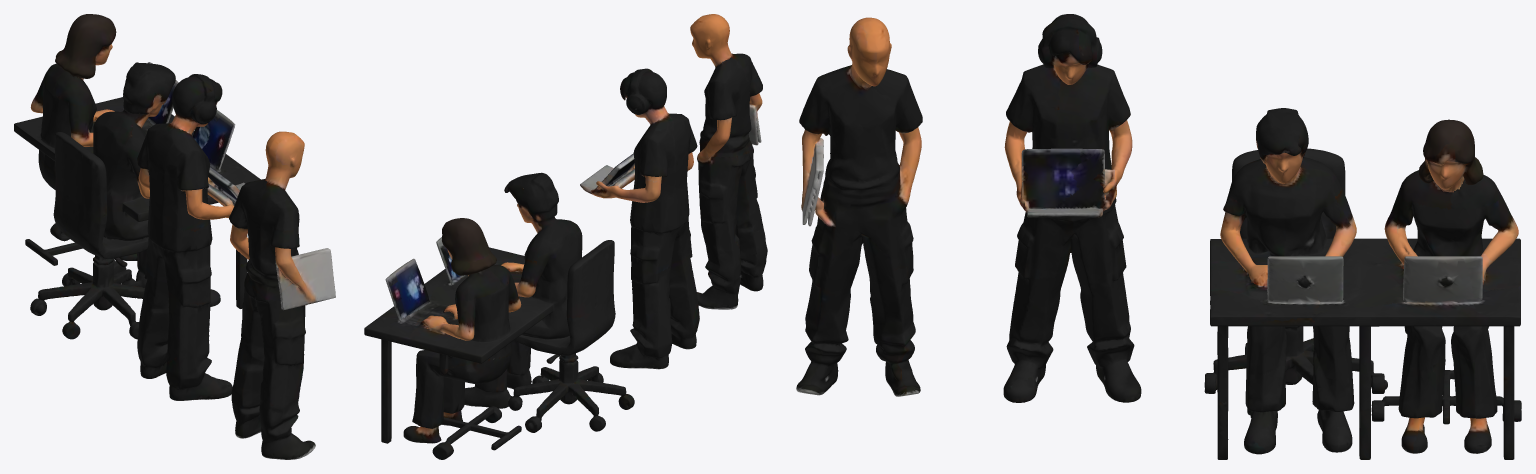
Rendered from staff.glb.
The picture shows the model from 3 angles, left to right: view 1: azimuth 30°, elevation 25°; view 2: azimuth 150°, elevation 25°; view 3: azimuth 270°, elevation 25°; orthographic projection. The views are drawn at different scales.
Parts seen in each view (by area): view 1: tripo_node_cf0647c9-b564-48cb-8e1d-f5a0971fc059; view 2: tripo_node_cf0647c9-b564-48cb-8e1d-f5a0971fc059; view 3: tripo_node_cf0647c9-b564-48cb-8e1d-f5a0971fc059.
Part boxes in pixels (<box>): tripo_node_cf0647c9-b564-48cb-8e1d-f5a0971fc059: <box>14,14,335,459</box>; tripo_node_cf0647c9-b564-48cb-8e1d-f5a0971fc059: <box>364,14,767,459</box>; tripo_node_cf0647c9-b564-48cb-8e1d-f5a0971fc059: <box>796,14,1521,459</box>.
Bounding box in the file's own units: 0.3711 × 0.5766 × 1.
Materials: 1 (1 with a texture image).
